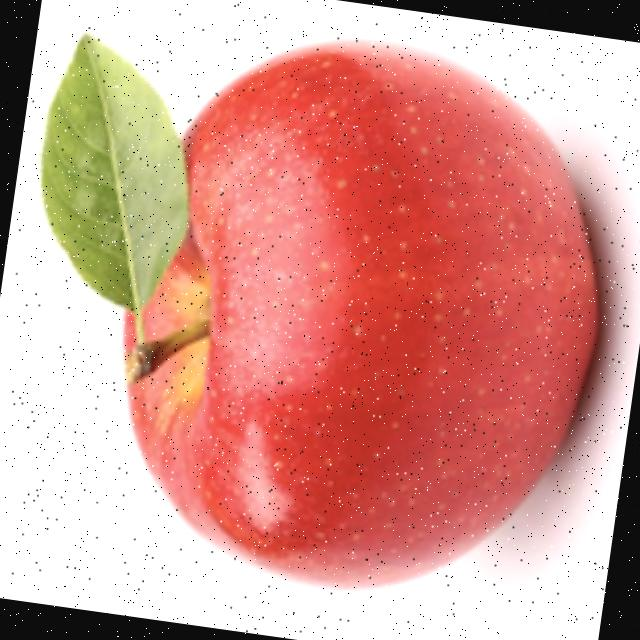Ripe: (83, 3, 640, 625)
